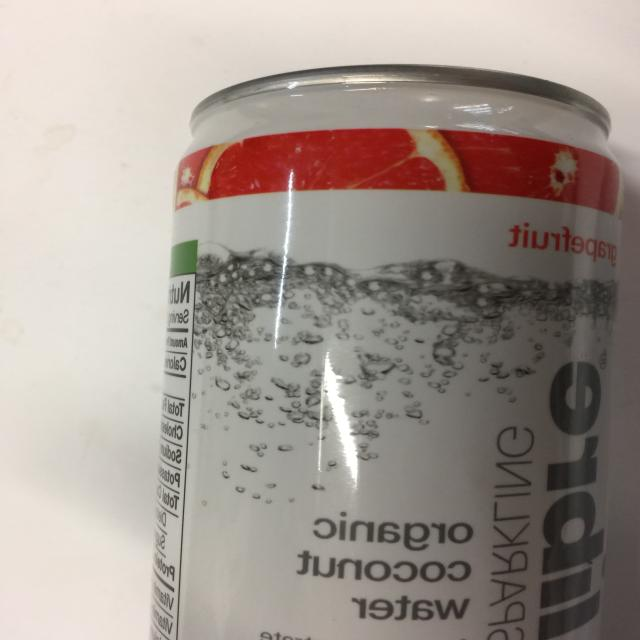metal: (148, 63, 624, 640)
